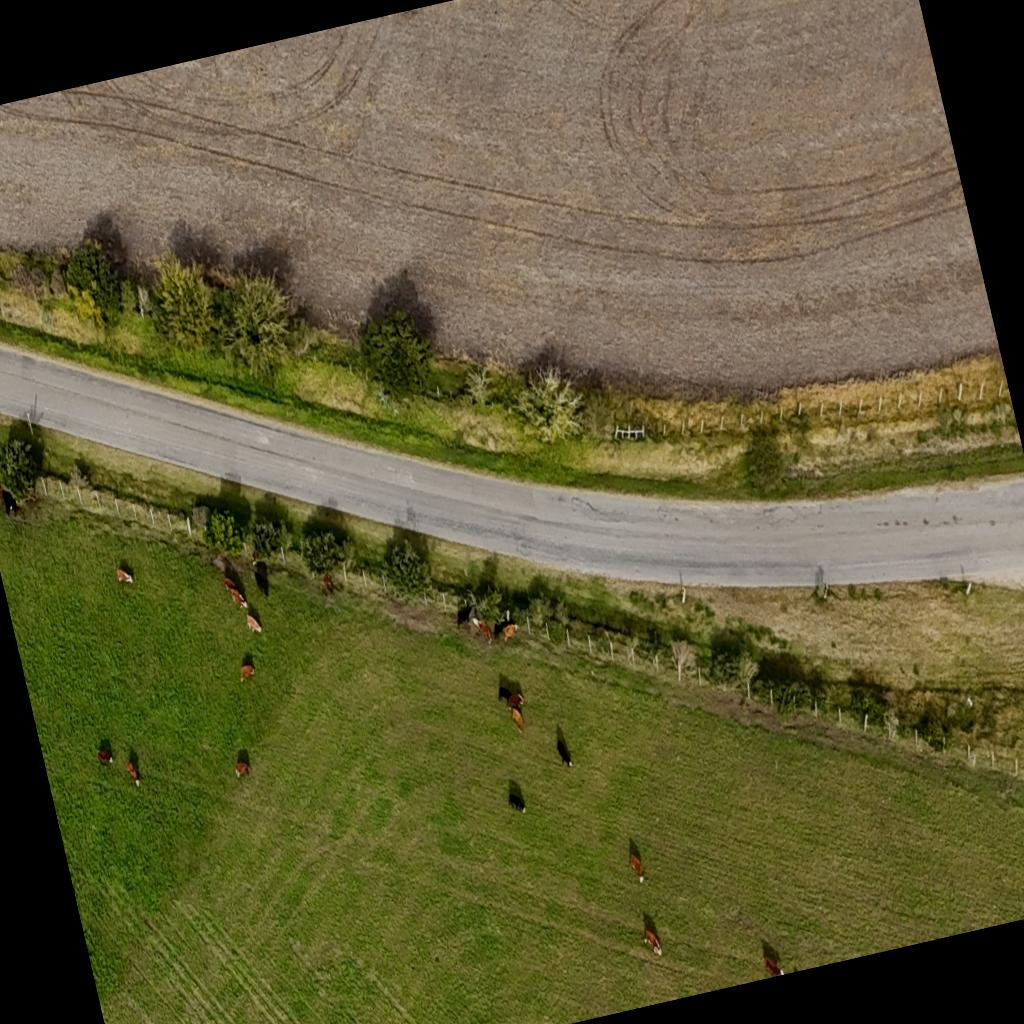cow: (554, 730, 574, 772), (642, 926, 664, 960), (453, 600, 477, 630), (628, 851, 646, 887), (0, 486, 20, 518), (228, 584, 249, 613), (473, 618, 494, 646), (498, 620, 522, 644), (253, 568, 271, 599), (509, 704, 526, 736), (244, 611, 263, 637), (506, 690, 526, 714), (126, 759, 142, 789), (763, 956, 784, 978), (508, 790, 527, 814), (96, 745, 114, 767), (116, 564, 134, 586), (496, 684, 514, 704), (234, 760, 252, 778), (238, 664, 256, 682), (322, 574, 334, 594), (250, 552, 262, 566), (0, 481, 6, 503)
